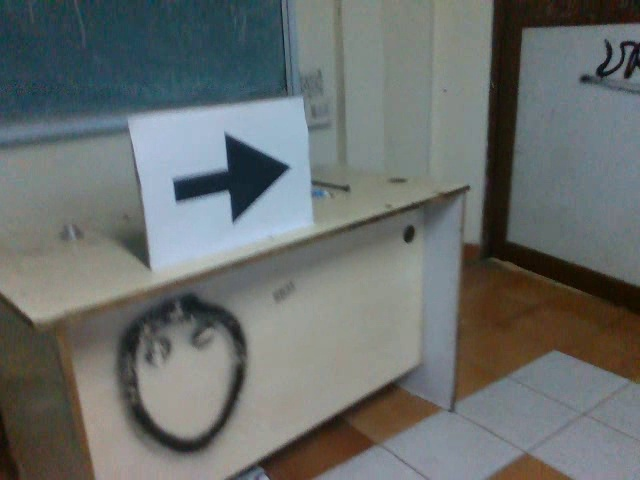Right: (166, 127, 293, 232)
